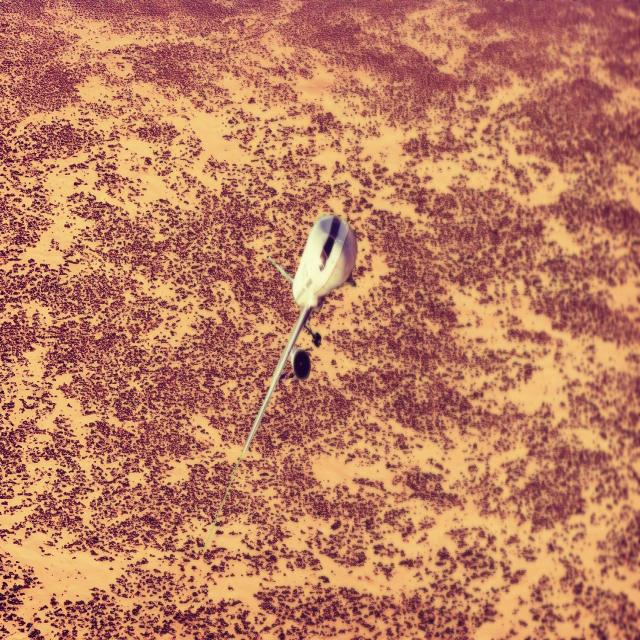airplane: (203, 210, 357, 550)
